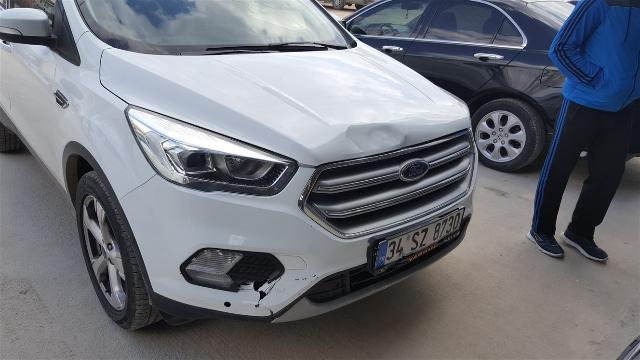crack: (253, 277, 280, 308), (236, 278, 256, 289)
dent: (336, 122, 406, 156)
no part: (224, 302, 231, 307)
scratch: (294, 274, 319, 284), (272, 286, 299, 295), (270, 310, 273, 315)
